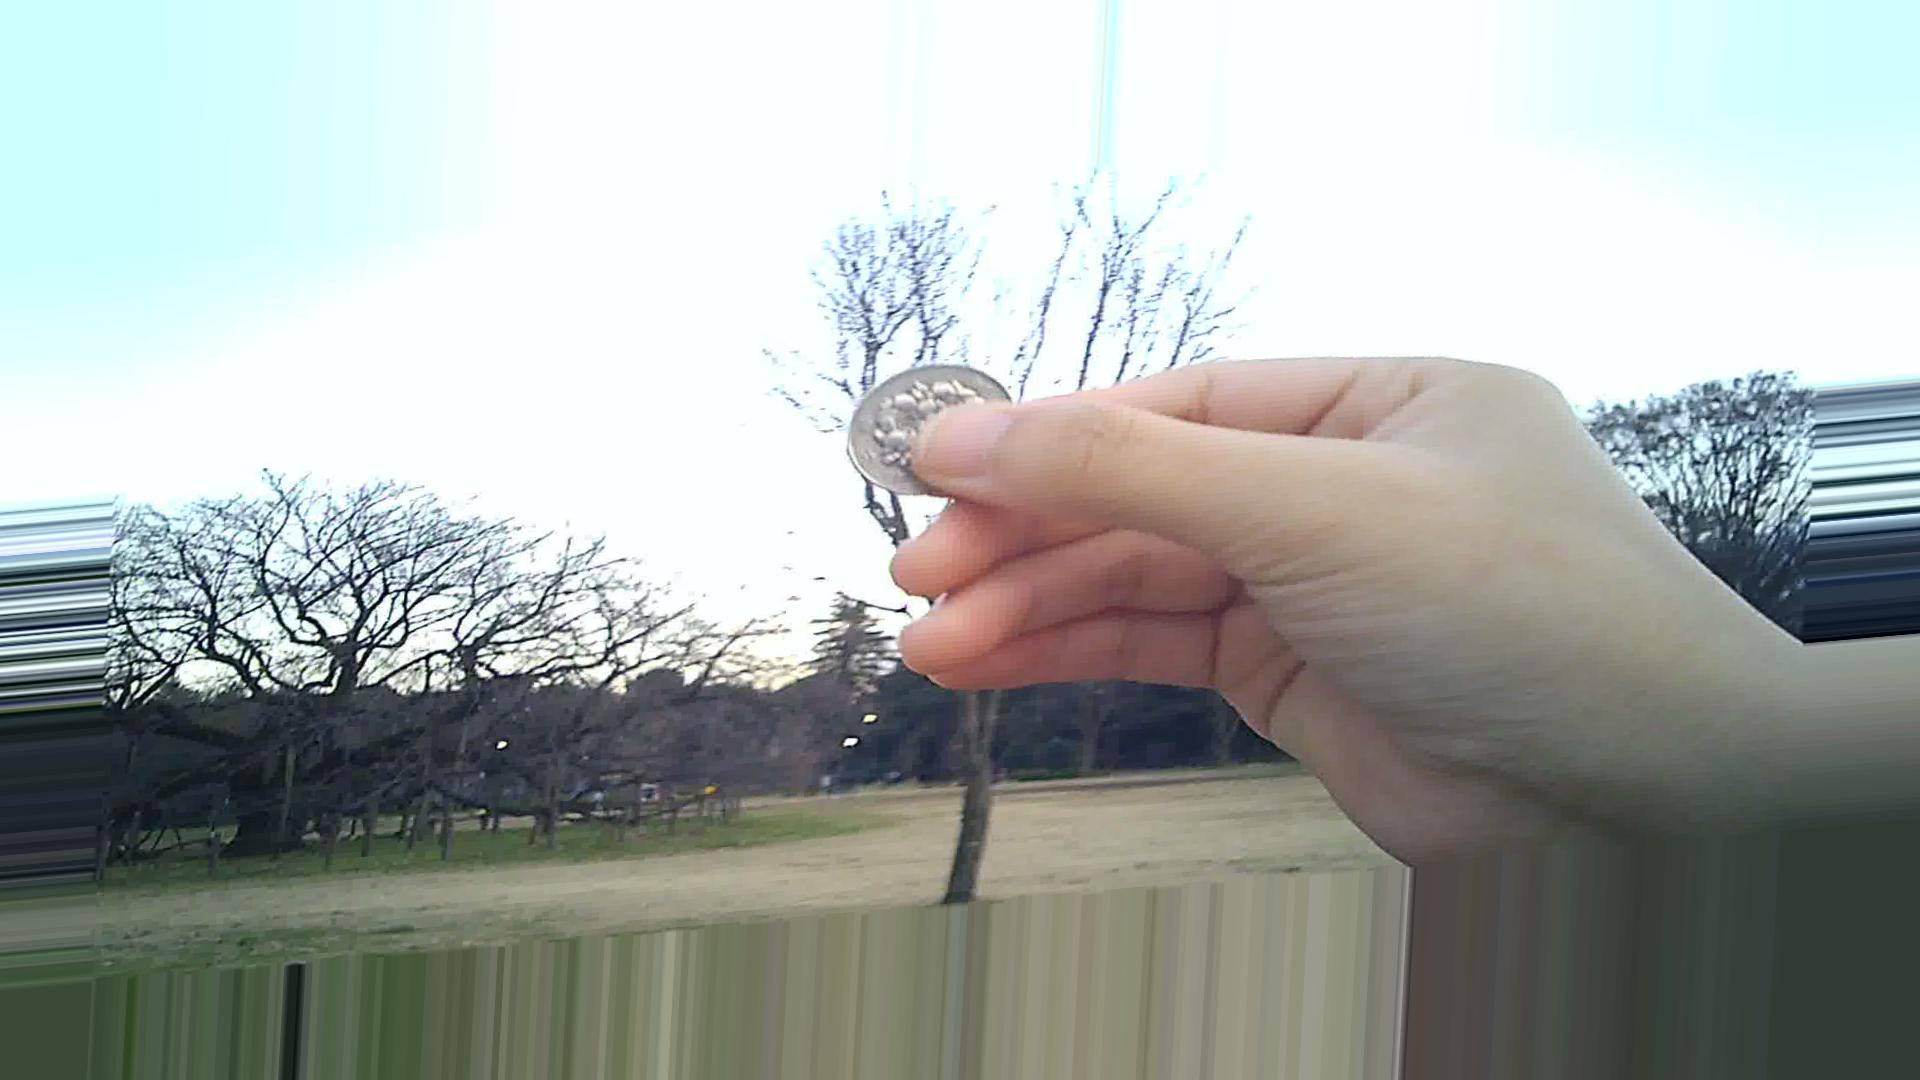100 Yen: (847, 357, 1015, 500)
